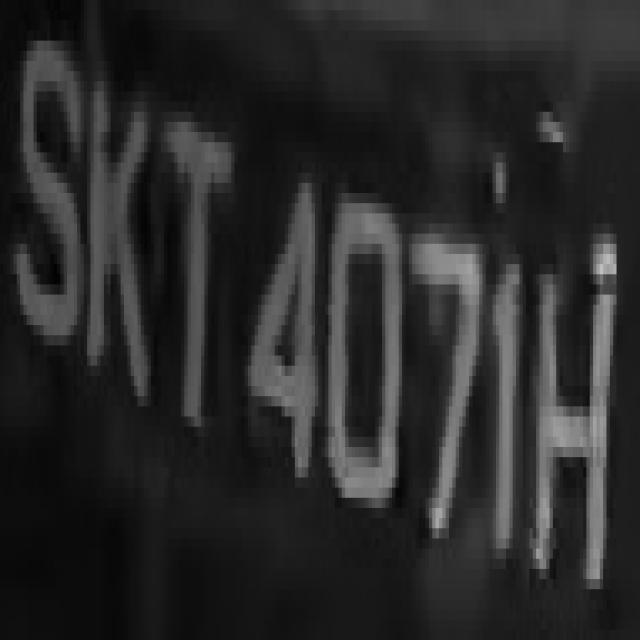0: (335, 162, 409, 538)
1: (482, 224, 530, 589)
4: (235, 132, 332, 488)
7: (399, 193, 479, 559)
H: (540, 213, 626, 610)
K: (84, 71, 151, 437)
S: (17, 10, 87, 356)
T: (154, 81, 238, 437)
